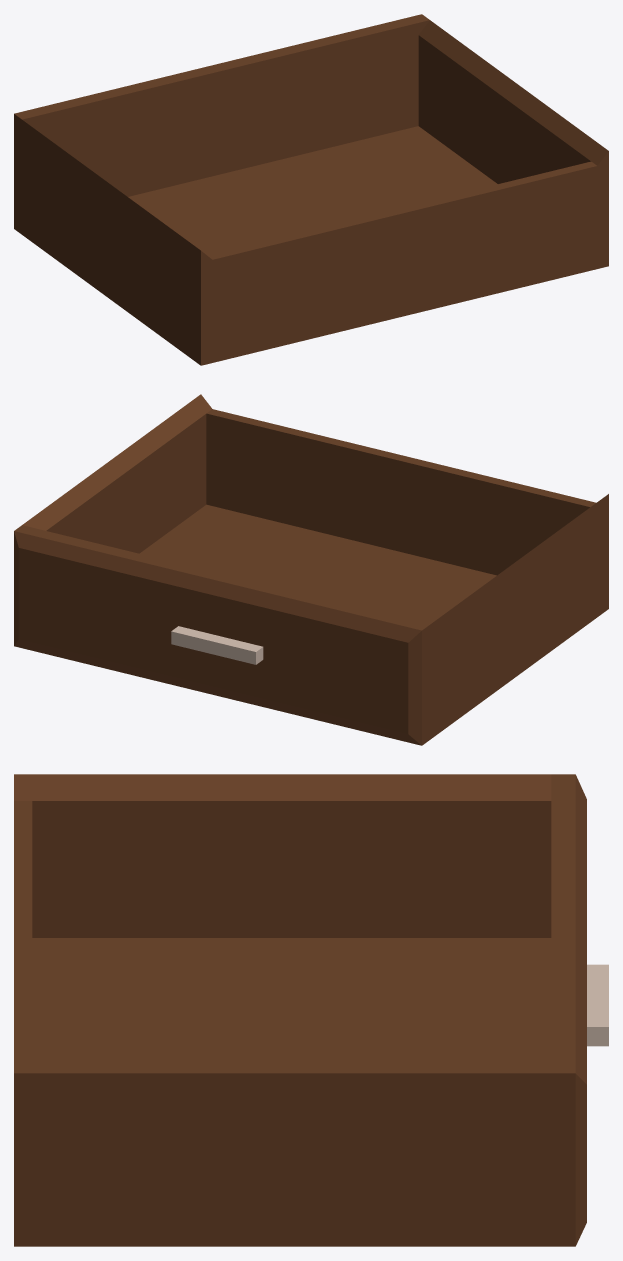
The model's file is Large Dresser Right Top Drawer.fbx.
3 views of the same model, one above another, from view 1: azimuth 30°, elevation 25°; view 2: azimuth 150°, elevation 25°; view 3: azimuth 270°, elevation 25° (orthographic). The views are drawn at different scales.
Visible parts, largest first — view 1: Right; view 2: Right; view 3: Right.
Boxes of the visible parts, x1,y1,x2,y2 form: Right: (14, 14, 608, 365); Right: (14, 394, 608, 745); Right: (14, 774, 608, 1246).
Size of the model in its own units: 349 by 94.22 by 294.
